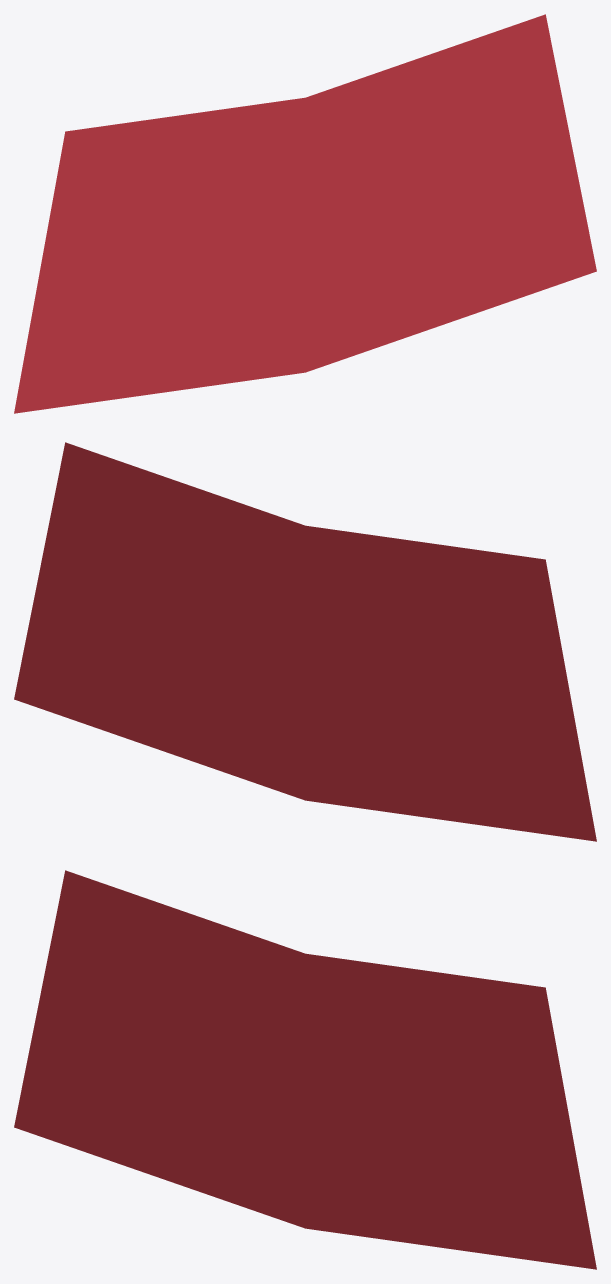
File: Penalty_Short2.fbx
3 renders of one model, top to bottom at view 1: azimuth 30°, elevation 25°; view 2: azimuth 150°, elevation 25°; view 3: azimuth 330°, elevation 25°, orthographic.
Parts seen in each view (by area): view 1: Cylinder; view 2: Cylinder; view 3: Cylinder.
Boxes of the visible parts, box(x1,y1,x2,y2) form: Cylinder: box(14, 14, 596, 413); Cylinder: box(14, 442, 596, 841); Cylinder: box(14, 870, 596, 1269).
Size of the model in its own units: 293 by 144 by 1.94e-05.
